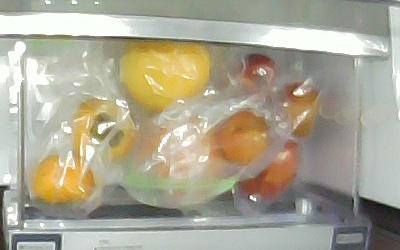apple_vinyl: (238, 140, 301, 202), (225, 54, 280, 95)
grapefruit_vinyl: (131, 125, 222, 202), (119, 41, 212, 113)
persimmon_vinyl: (73, 99, 138, 161), (33, 155, 95, 205)
prune_vinyl: (221, 109, 270, 165), (273, 83, 321, 138)
